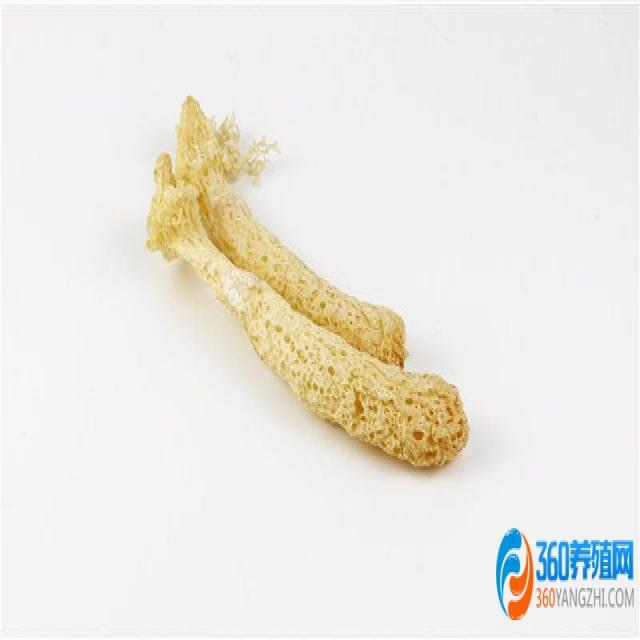Dictyophora indusiate: (147, 95, 470, 469)
